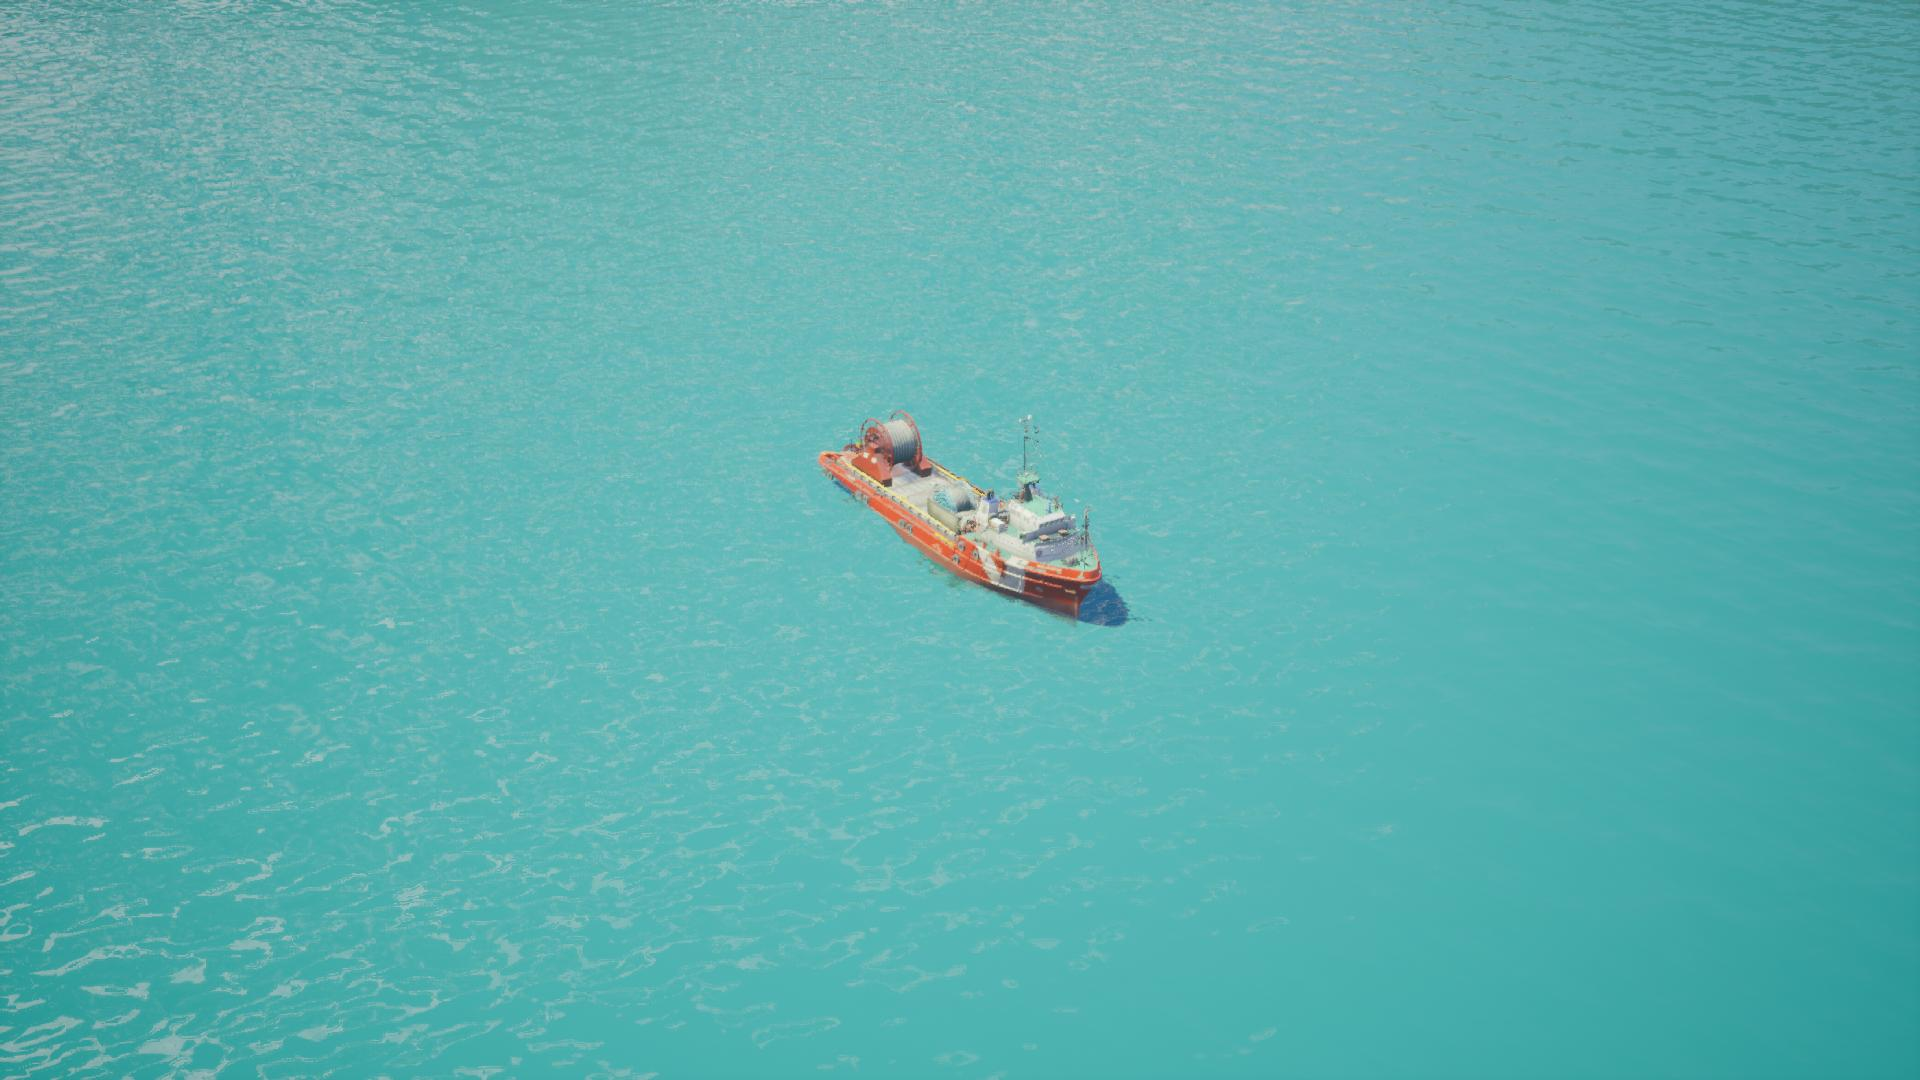Tug Boat: (796, 364, 1145, 621)
